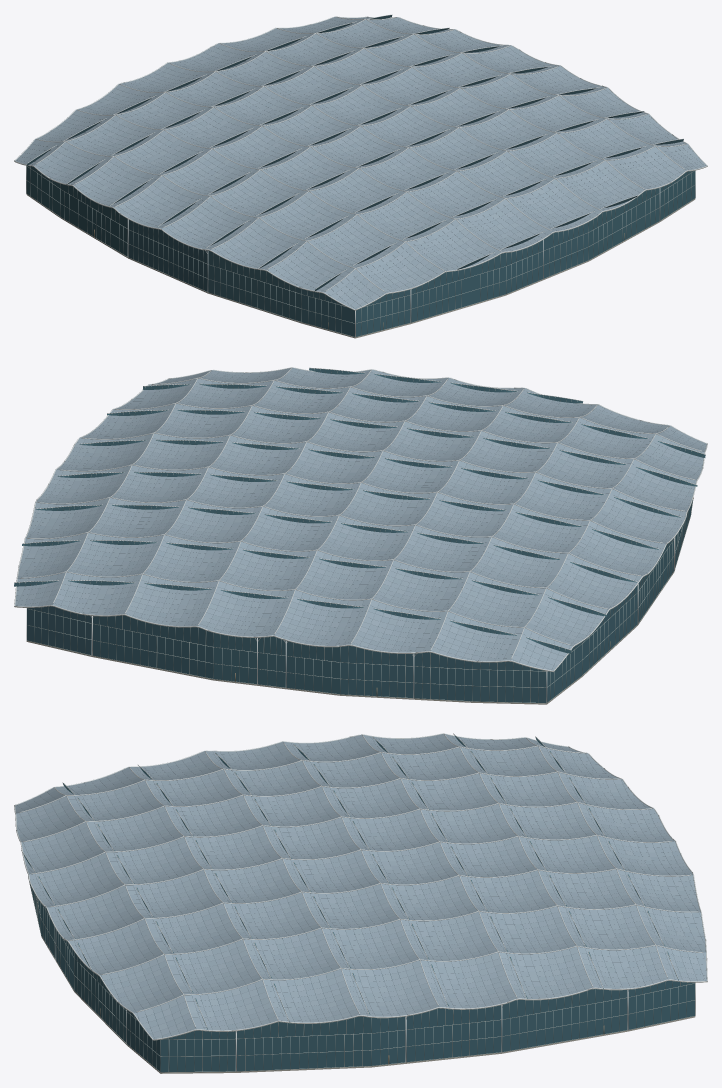
File: charleston-canopy.glb
3 renders of one model, top to bottom at view 1: azimuth 30°, elevation 25°; view 2: azimuth 150°, elevation 25°; view 3: azimuth 270°, elevation 25°, orthographic. The views are drawn at different scales.
Visible parts, largest first — view 1: charleston-canopy; view 2: charleston-canopy; view 3: charleston-canopy.
Boxes of the visible parts, x1,y1,x2,y2 form: charleston-canopy: (14, 14, 707, 338); charleston-canopy: (14, 367, 707, 704); charleston-canopy: (14, 733, 707, 1073).
Size of the model in its own units: 219 by 28.91 by 219.
